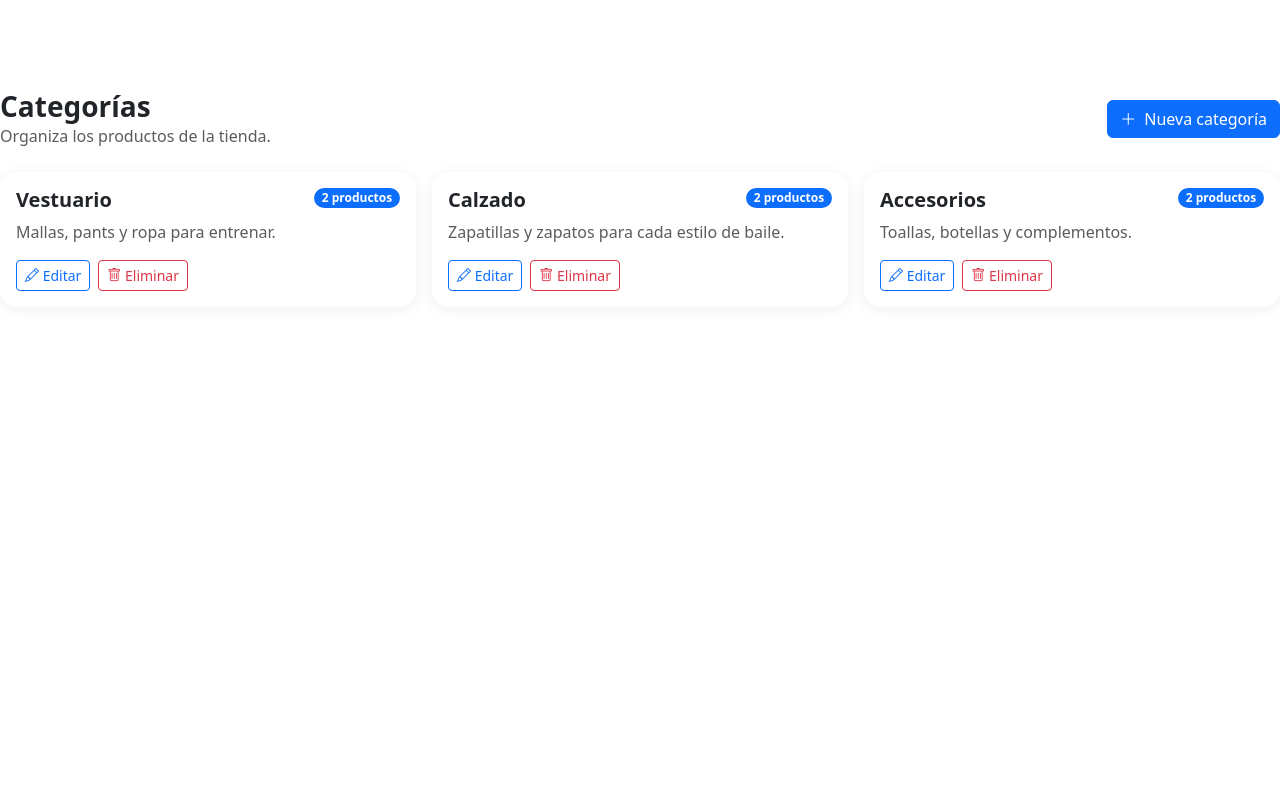
admin/views/CategoriasView › el modal está cerrado al inicio y "Nueva categoría" lo abre
Click the button "Nueva categoría" at x=1194, y=119, box x1=1107 y1=100 x2=1279 y2=138
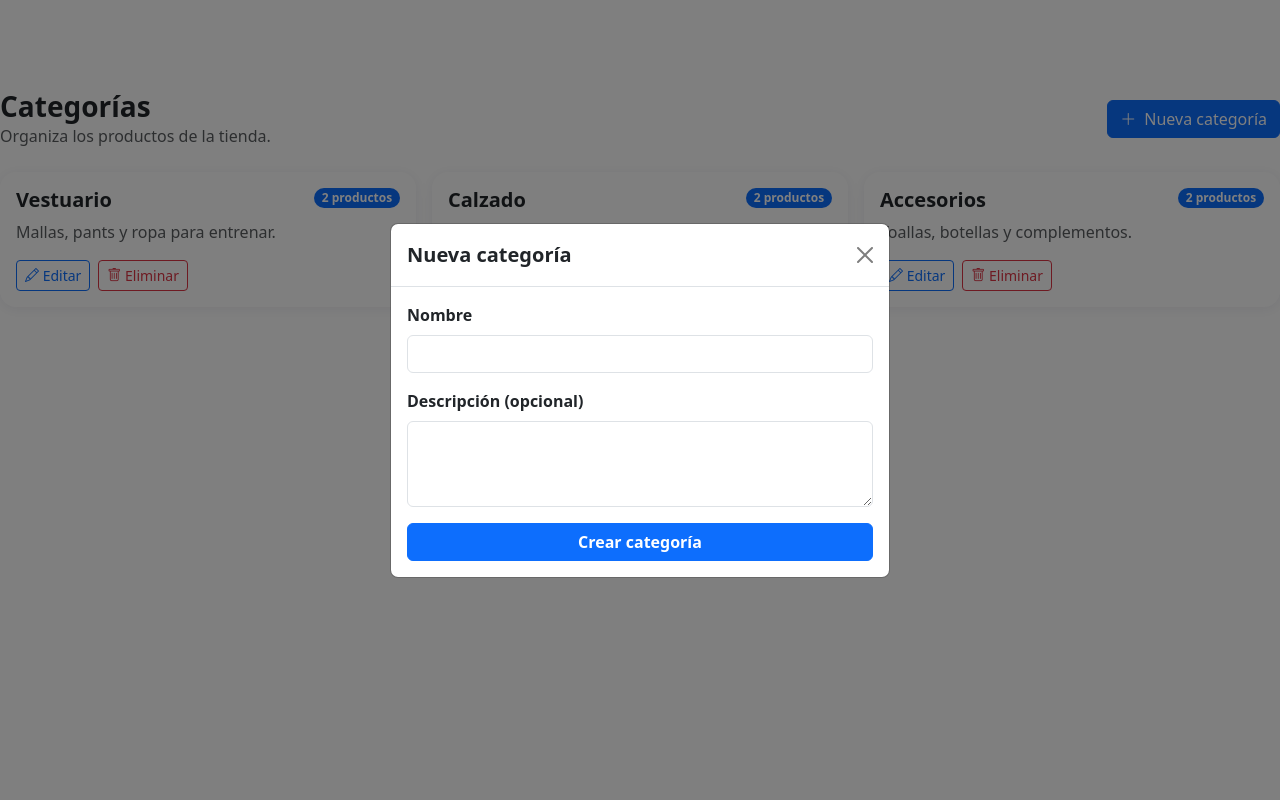
Check: the heading "Nueva categoría" is shown, box x1=407 y1=240 x2=572 y2=270
